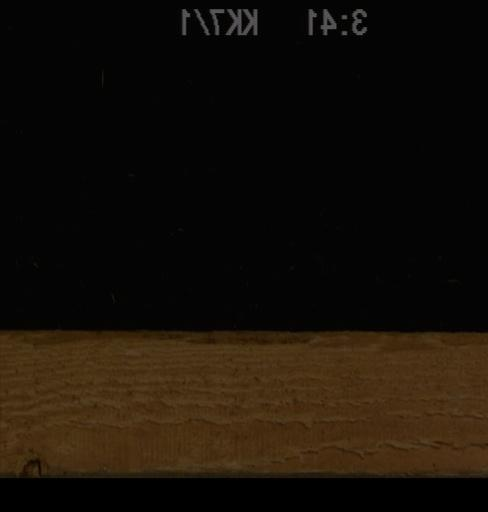edge_knot: (15, 455, 45, 477)
wave: (0, 327, 486, 345)
